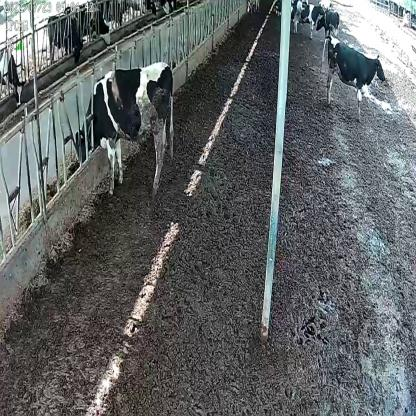cow: (74, 59, 176, 200), (320, 34, 386, 122), (293, 1, 324, 40), (316, 9, 340, 39)
